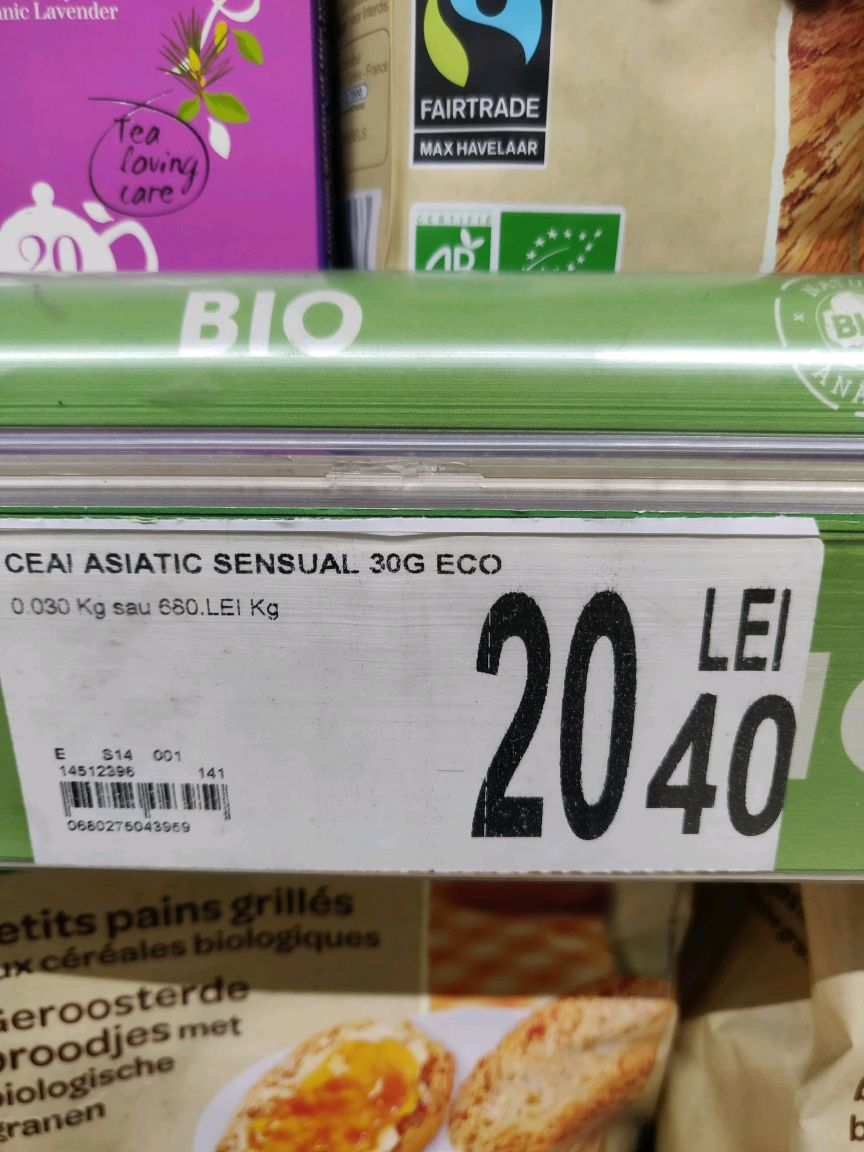price_bani: (639, 684, 806, 845)
price_lei: (462, 581, 639, 849)
price_tag: (1, 515, 837, 876)
product_id: (60, 817, 196, 844)
product_name: (1, 548, 518, 583)
